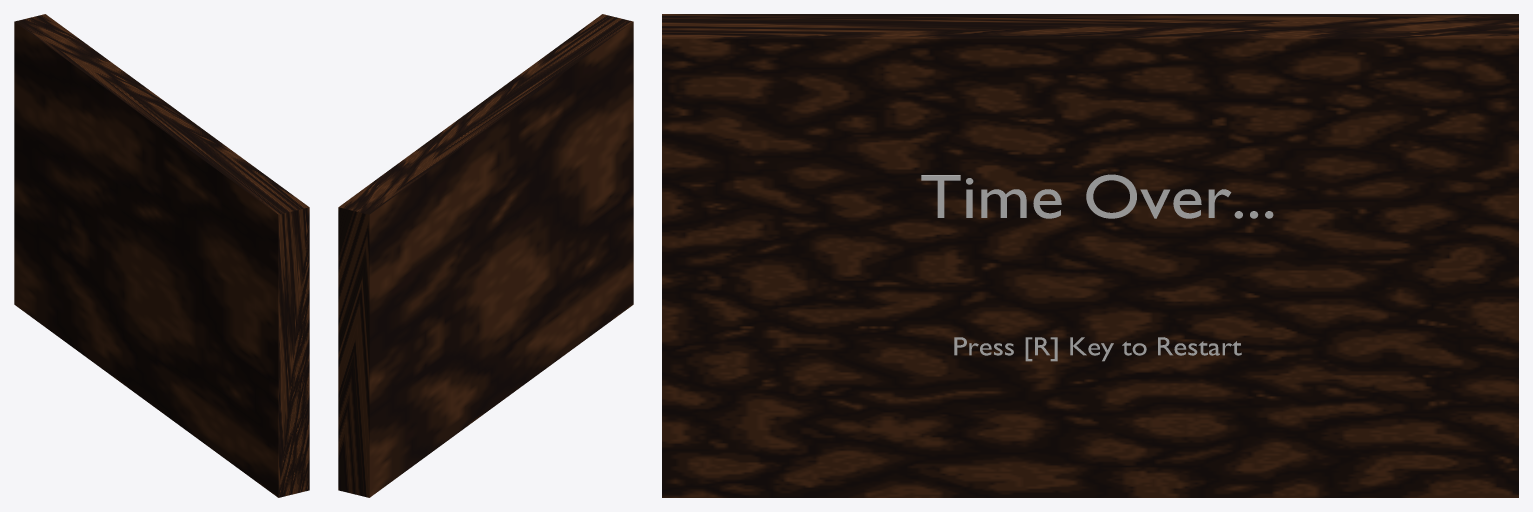
The model's file is TimeOver.gltf.
3 views of the same model, side by side, from view 1: azimuth 30°, elevation 25°; view 2: azimuth 150°, elevation 25°; view 3: azimuth 270°, elevation 25° (orthographic). The views are drawn at different scales.
Parts seen in each view (by area): view 1: 立方体; view 2: 立方体; view 3: 立方体, テキスト.002, テキスト.001.
Part boxes in pixels (left/top/right/bottom): 立方体: left=14, top=14, right=309, bottom=497; 立方体: left=338, top=14, right=633, bottom=497; 立方体: left=662, top=14, right=1518, bottom=497; テキスト.002: left=921, top=174, right=1273, bottom=218; テキスト.001: left=954, top=337, right=1241, bottom=361.
Size of the model in its own units: 1.33 by 11.51 by 19.45.
3 materials, 1 textured.
